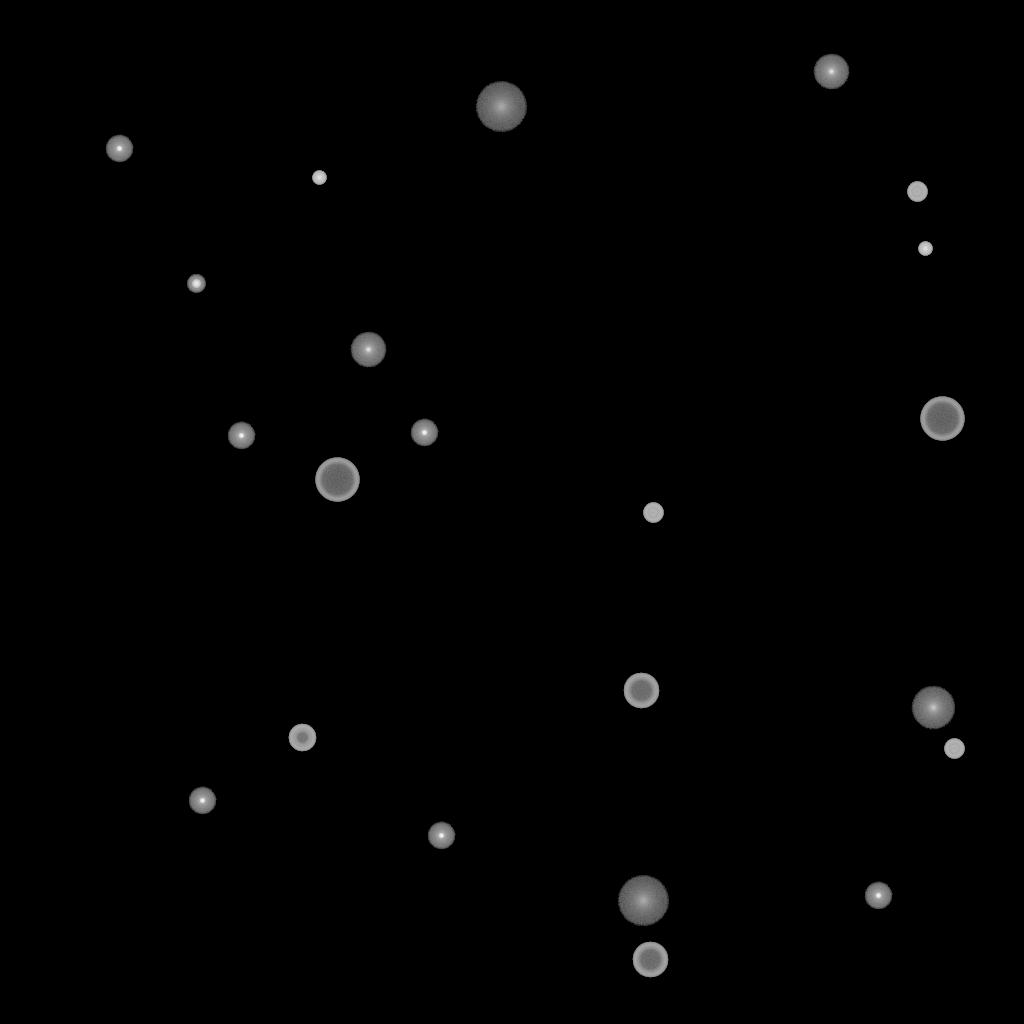depth:-10: (227, 422, 255, 450), (864, 882, 892, 910), (427, 822, 455, 850), (410, 419, 438, 447), (188, 787, 216, 815), (105, 135, 133, 163)
depth:-20: (187, 275, 205, 293)
depth:-30: (312, 171, 326, 185), (918, 242, 932, 256)
depth:-40: (643, 503, 663, 523), (907, 182, 927, 202), (944, 739, 964, 759)
depth:-50: (288, 724, 316, 752)
depth:-60: (632, 942, 668, 978), (623, 673, 659, 709)
depth:-70: (920, 397, 964, 441), (315, 458, 359, 502)
depth:0: (813, 54, 849, 90), (350, 332, 386, 368)
depth:10: (911, 686, 955, 730)
depth:20: (475, 82, 527, 132), (617, 876, 669, 926)
